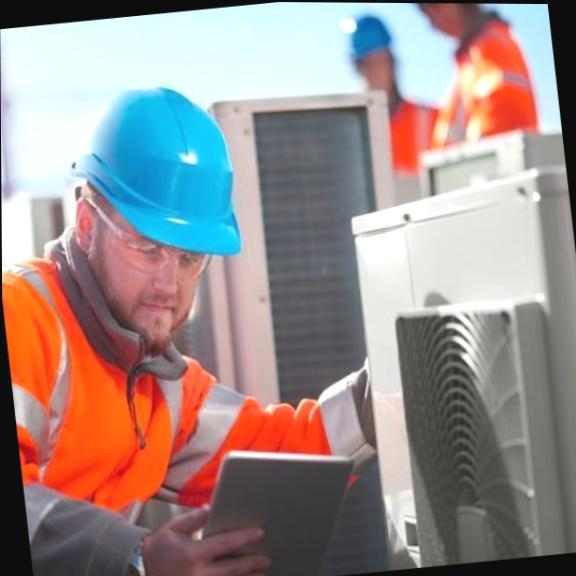safety_vest: (2, 271, 332, 535), (438, 7, 534, 153)
